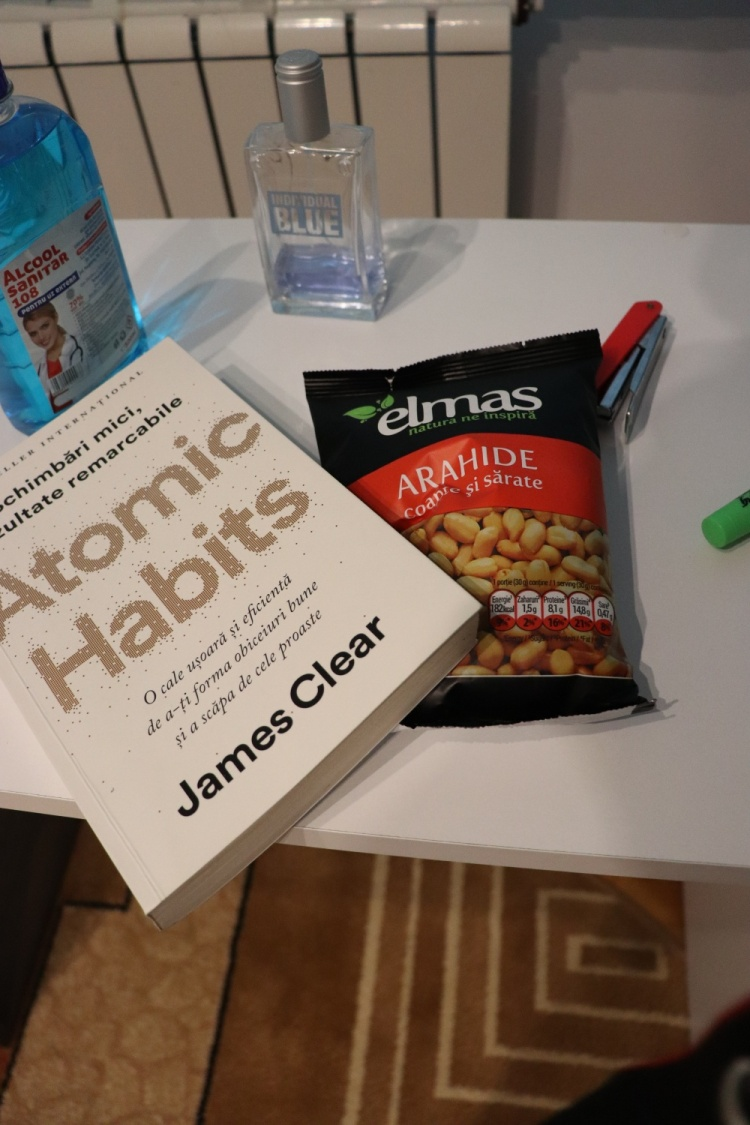peanuts: (290, 325, 677, 745)
